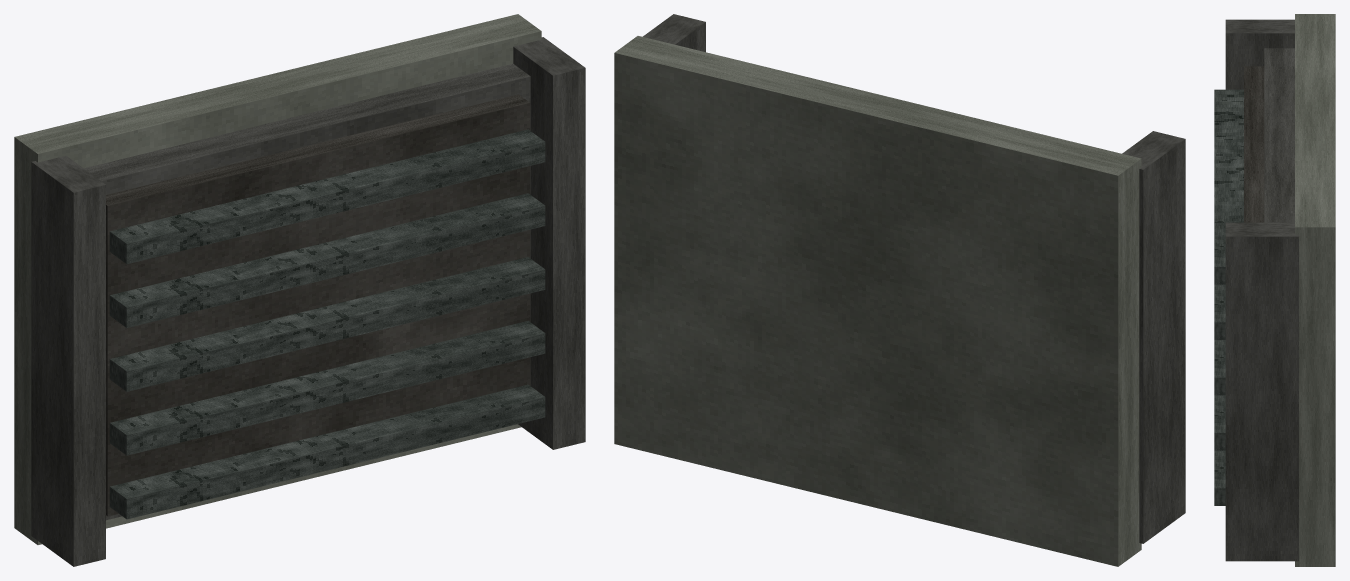
Rendered from g4_vent_lod.gltf.
3 renders of one model, left to right at view 1: azimuth 30°, elevation 25°; view 2: azimuth 150°, elevation 25°; view 3: azimuth 270°, elevation 25°, orthographic. The views are drawn at different scales.
Parts seen in each view (by area): view 1: g4_vent_lod; view 2: g4_vent_lod; view 3: g4_vent_lod.
Boxes of the visible parts, x1,y1,x2,y2 form: g4_vent_lod: (14, 14, 585, 566); g4_vent_lod: (614, 14, 1185, 566); g4_vent_lod: (1214, 14, 1335, 566).
Size of the model in its own units: 1.26 by 0.92 by 0.2975.
Materials: 1 (1 with a texture image).
